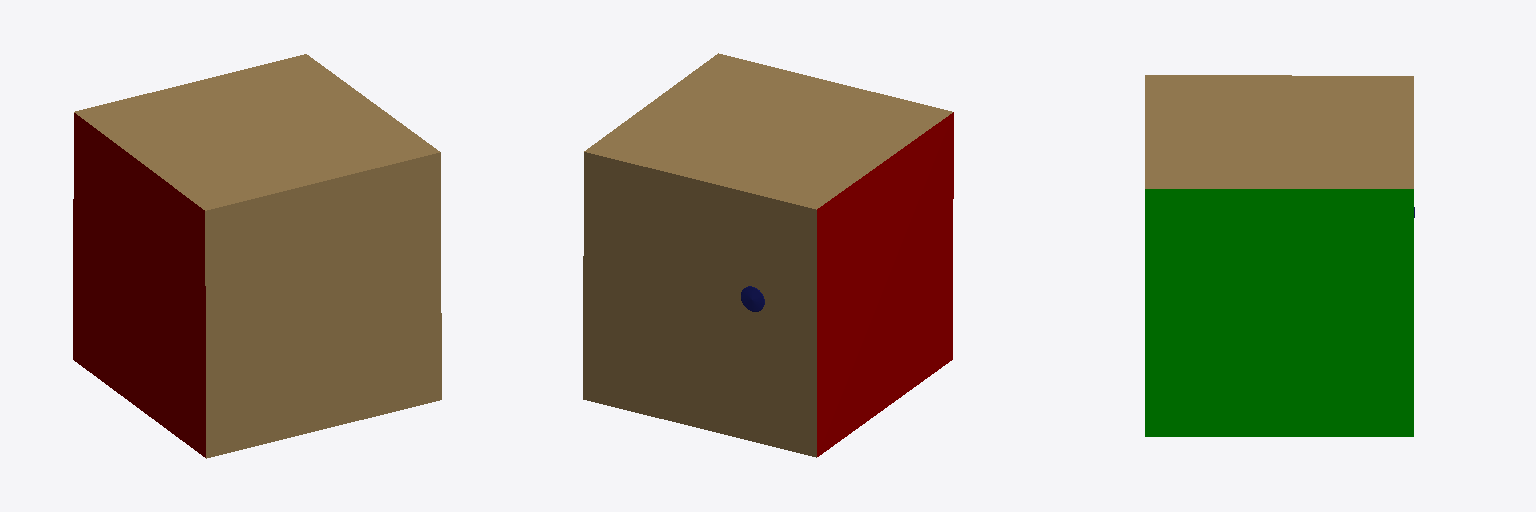
3 renders of one model, left to right at view 1: azimuth 30°, elevation 25°; view 2: azimuth 150°, elevation 25°; view 3: azimuth 270°, elevation 25°, orthographic.
Visible parts, largest first — view 1: ceiling, red_wall, back_wall; view 2: floor, red_wall, back_wall; view 3: green_wall, back_wall.
Boxes of the visible parts, box(x1,y1,x2,y2) form: ceiling: box(205, 152, 441, 458); red_wall: box(73, 113, 205, 457); back_wall: box(74, 54, 439, 210); floor: box(583, 152, 816, 457); red_wall: box(817, 112, 953, 456); back_wall: box(584, 53, 952, 209); green_wall: box(1145, 189, 1413, 436); back_wall: box(1145, 75, 1413, 188).
Bounding box in the file's own units: 5.51 × 5.54 × 5.44.